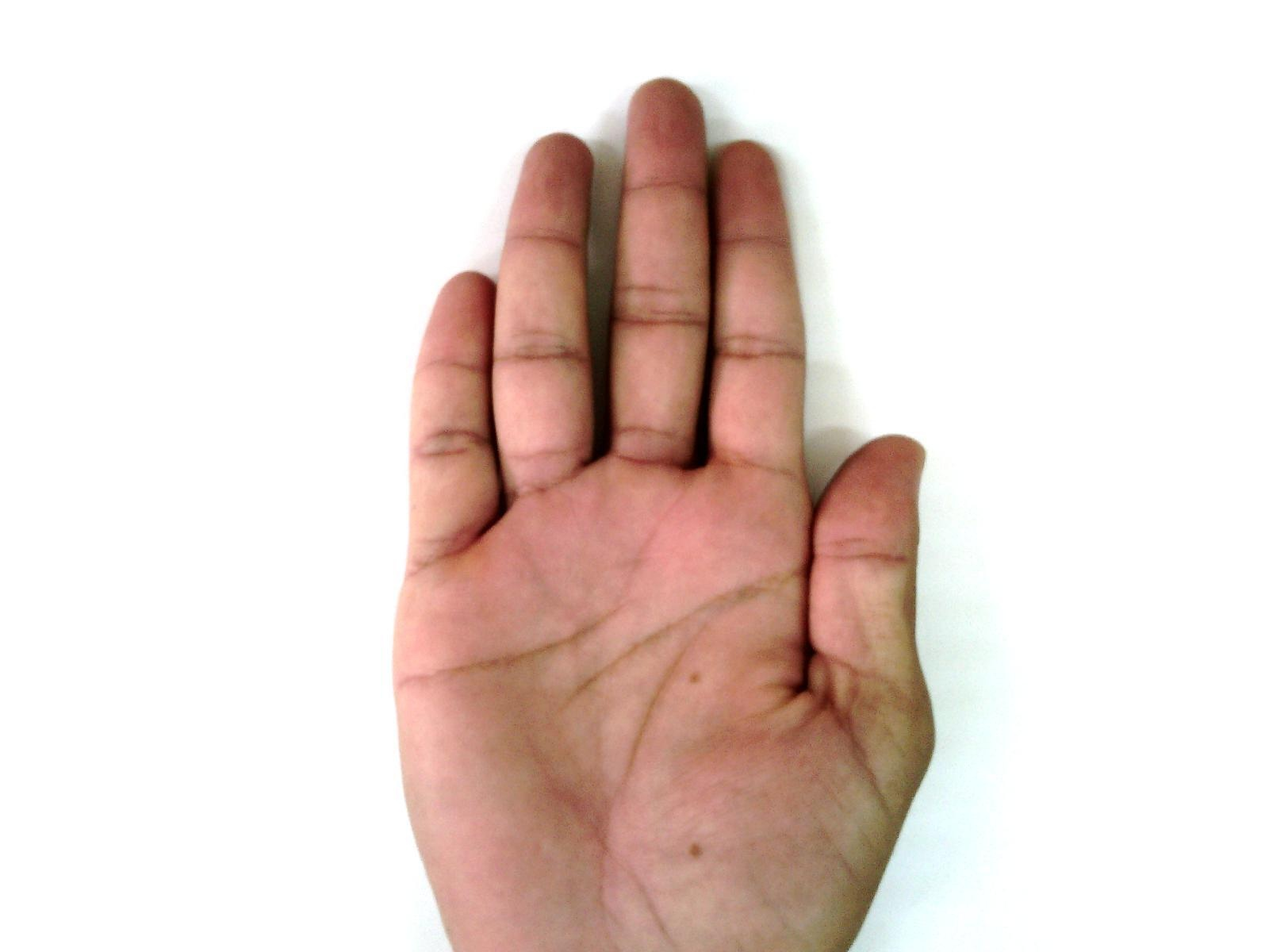open_palm: (389, 77, 940, 950)
